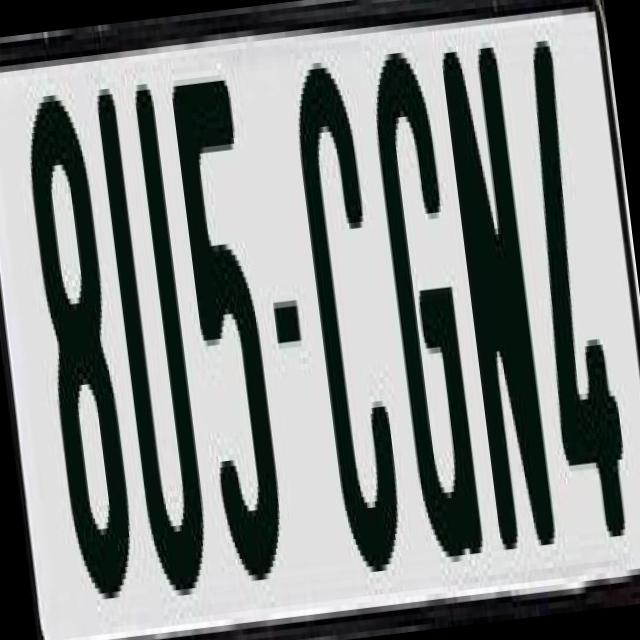4: (510, 37, 636, 547)
5: (168, 61, 290, 588)
8: (13, 74, 137, 596)
C: (284, 47, 410, 586)
G: (363, 31, 494, 582)
N: (441, 46, 564, 585)
U: (90, 77, 212, 598)
